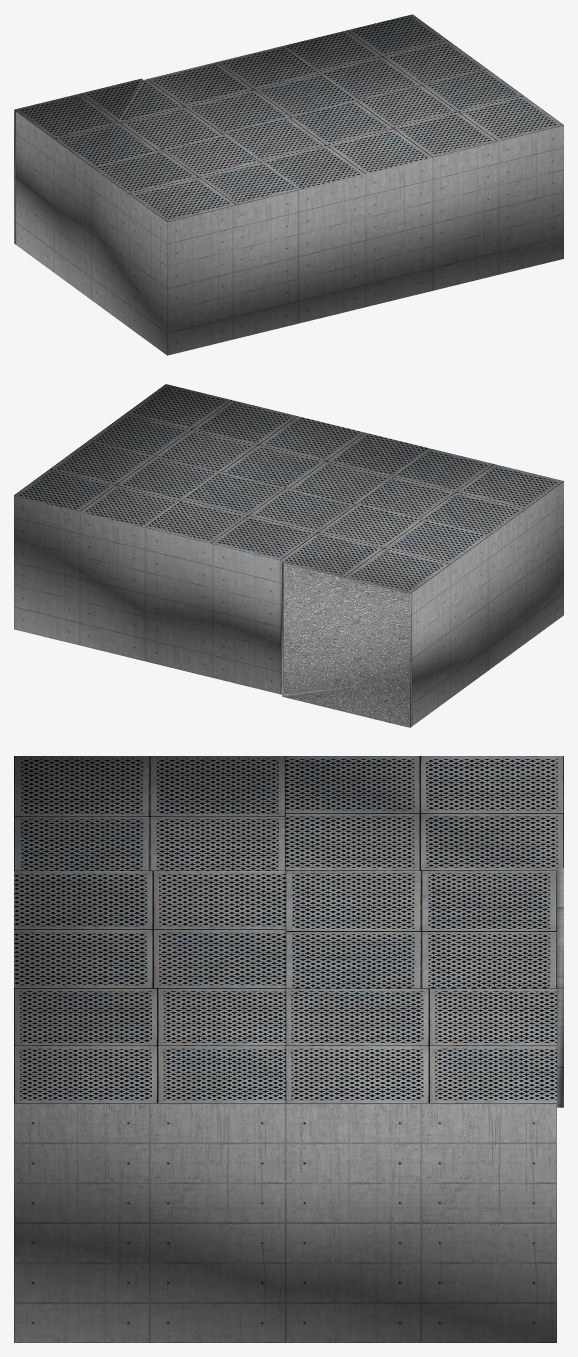
File: BigRoom.fbx
3 renders of one model, top to bottom at view 1: azimuth 30°, elevation 25°; view 2: azimuth 150°, elevation 25°; view 3: azimuth 270°, elevation 25°, orthographic. The views are drawn at different scales.
Parts seen in each view (by area): view 1: Room.001; view 2: Room.001; view 3: Room.001.
Boxes of the visible parts, x1=… form: Room.001: x1=14, y1=14, x2=563, y2=355; Room.001: x1=14, y1=384, x2=563, y2=727; Room.001: x1=14, y1=756, x2=563, y2=1342.
Size of the model in its own units: 590 by 190 by 395.
